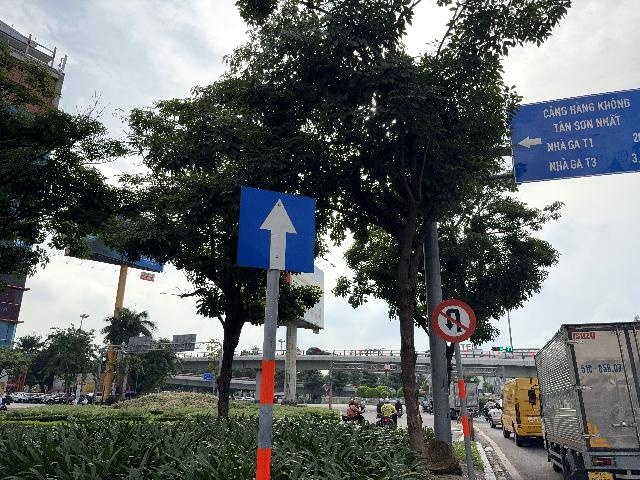cam-quay-dau-xe: (431, 299, 476, 343)
duong-mot-chieu: (237, 185, 316, 273)
